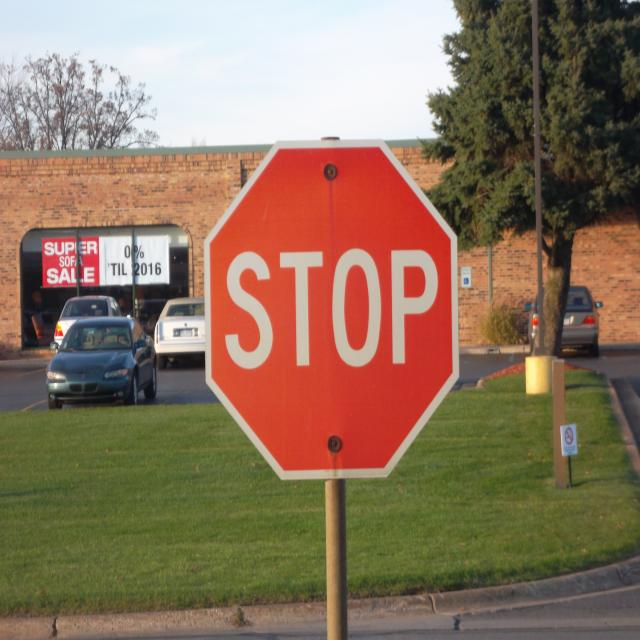stop: (194, 132, 465, 488)
